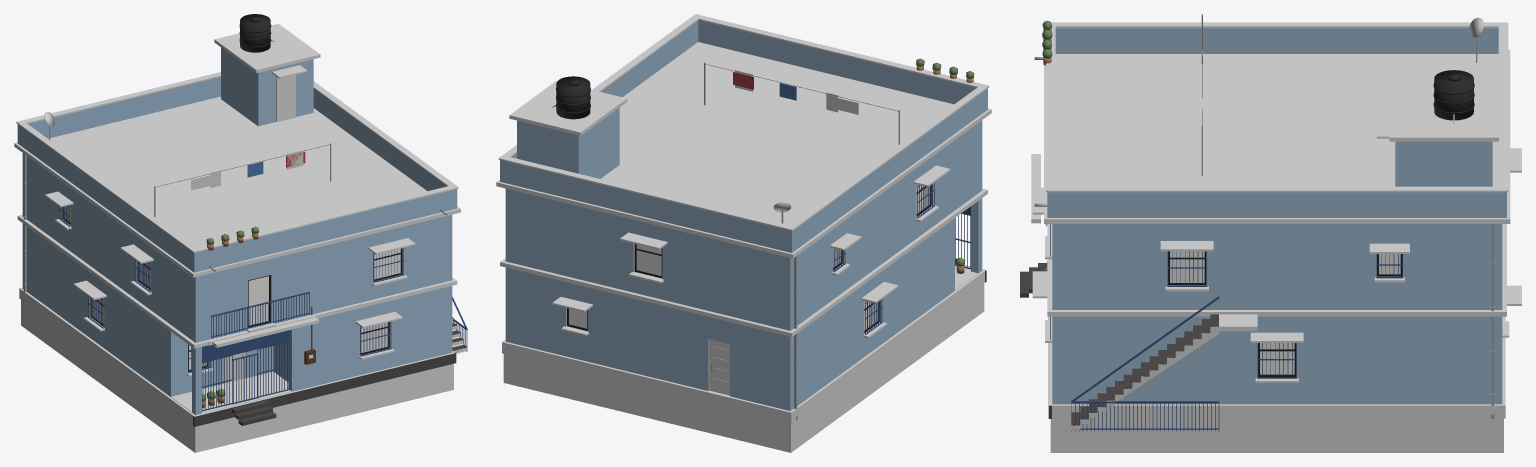
The model's file is tn_house_12x14_2.glb.
The picture shows the model from 3 angles, left to right: view 1: azimuth 30°, elevation 25°; view 2: azimuth 150°, elevation 25°; view 3: azimuth 270°, elevation 25°; orthographic projection. The views are drawn at different scales.
Parts seen in each view (by area): view 1: tn_house_12x14_2; view 2: tn_house_12x14_2; view 3: tn_house_12x14_2.
Part boxes in pixels (x1,y1,x2,y2): tn_house_12x14_2: (14, 14, 467, 452); tn_house_12x14_2: (496, 14, 991, 452); tn_house_12x14_2: (1020, 14, 1521, 452).
Size of the model in its own units: 13.67 by 12 by 15.61.
